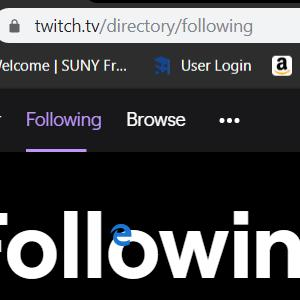edge: (110, 224, 131, 246)
